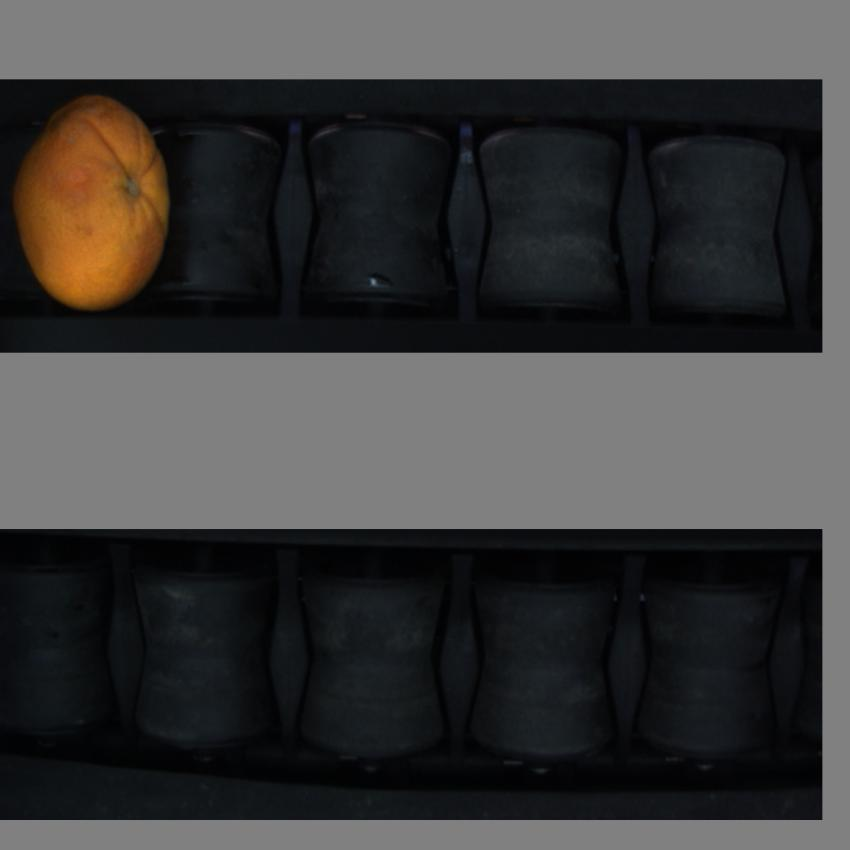Mal estado: (9, 101, 182, 311)
